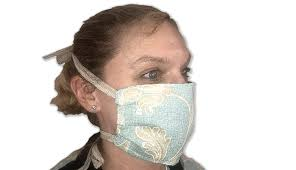cloth_mask: (100, 82, 200, 167)
